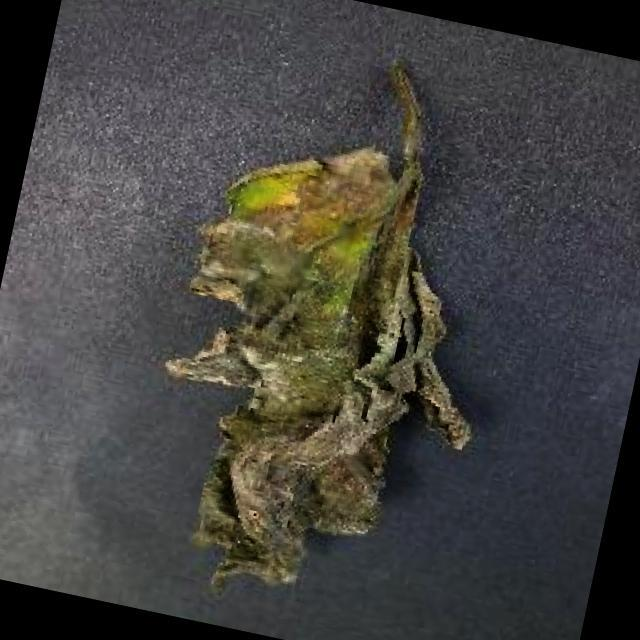Tomato late blight leaf: (121, 115, 528, 637)
